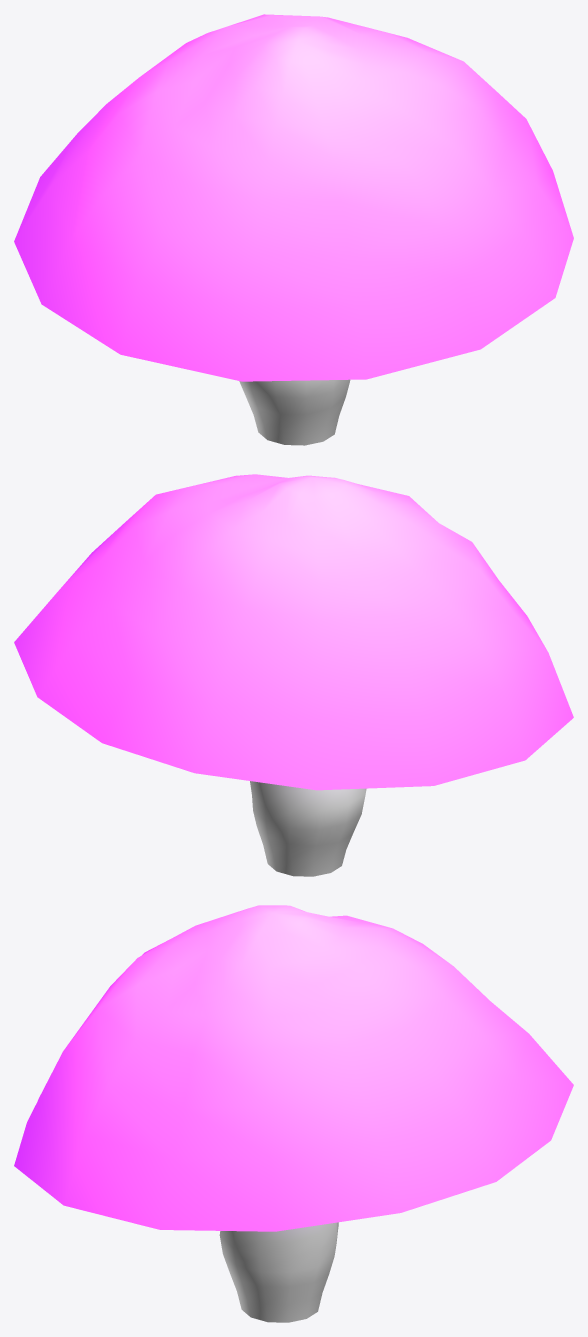
File: mushroom_1.glb
The picture shows the model from 3 angles, top to bottom: view 1: azimuth 30°, elevation 25°; view 2: azimuth 150°, elevation 25°; view 3: azimuth 270°, elevation 25°; orthographic projection. The views are drawn at different scales.
Visible parts, largest first — view 1: geo1; view 2: geo1; view 3: geo1.
Part boxes in pixels (bbox=[...]): geo1: bbox=[14, 14, 573, 445]; geo1: bbox=[14, 474, 573, 876]; geo1: bbox=[14, 905, 573, 1322].
Bounding box in the file's own units: 0.2612 × 0.1981 × 0.2565.
